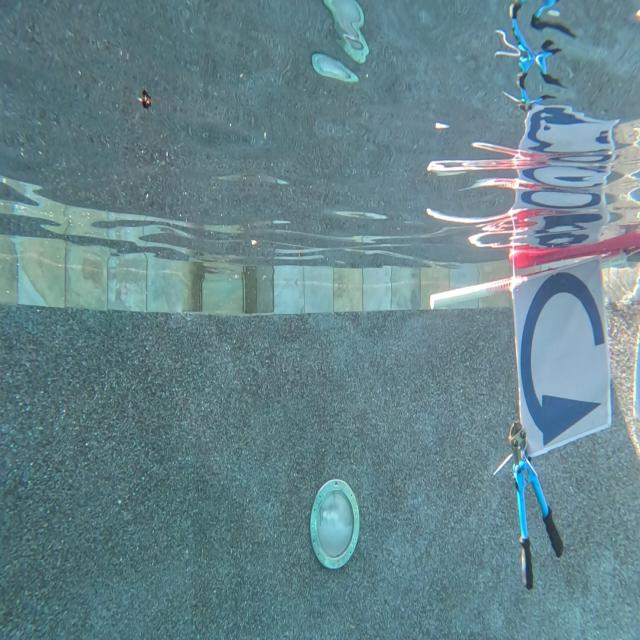blue_side: (512, 256, 618, 462)
